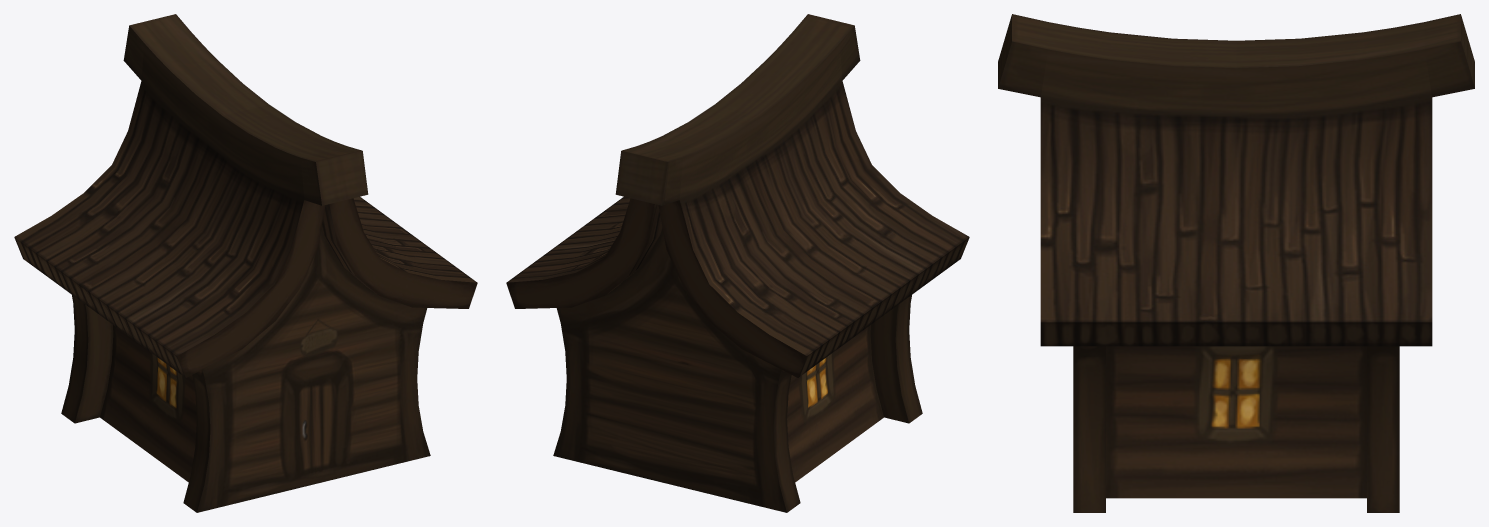
File: House01_Geo.fbx
3 renders of one model, left to right at view 1: azimuth 30°, elevation 25°; view 2: azimuth 150°, elevation 25°; view 3: azimuth 270°, elevation 25°, orthographic. The views are drawn at different scales.
Parts seen in each view (by area): view 1: House01_Geo; view 2: House01_Geo; view 3: House01_Geo.
Part boxes in pixels (bbox=[...]): House01_Geo: bbox=[14, 14, 477, 512]; House01_Geo: bbox=[506, 14, 969, 512]; House01_Geo: bbox=[998, 14, 1474, 512].
Bounding box in the file's own units: 768 × 846 × 877.
